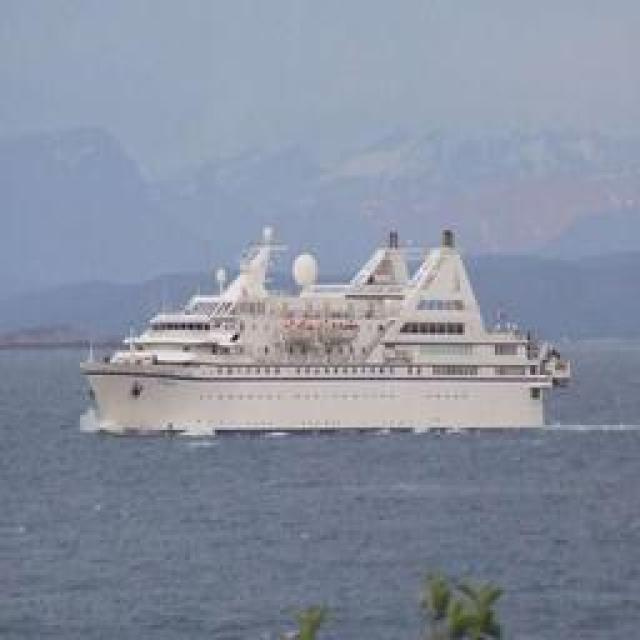CIV_Ship: (86, 226, 572, 422)
